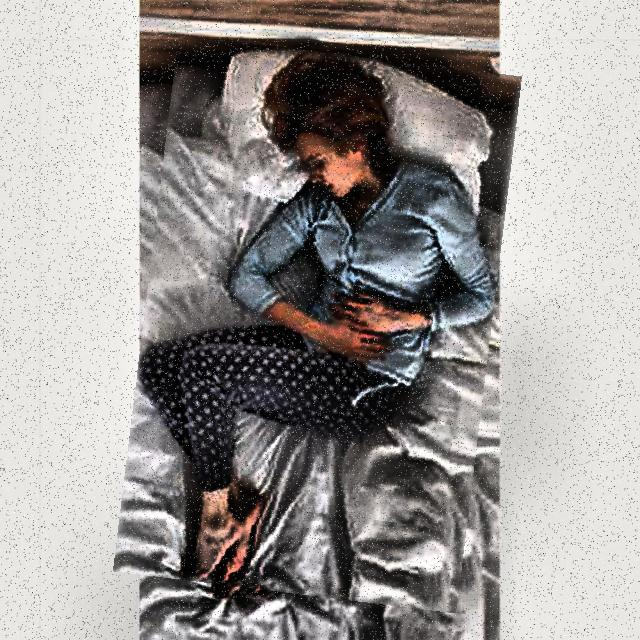Not_Supine: (138, 52, 495, 582)
